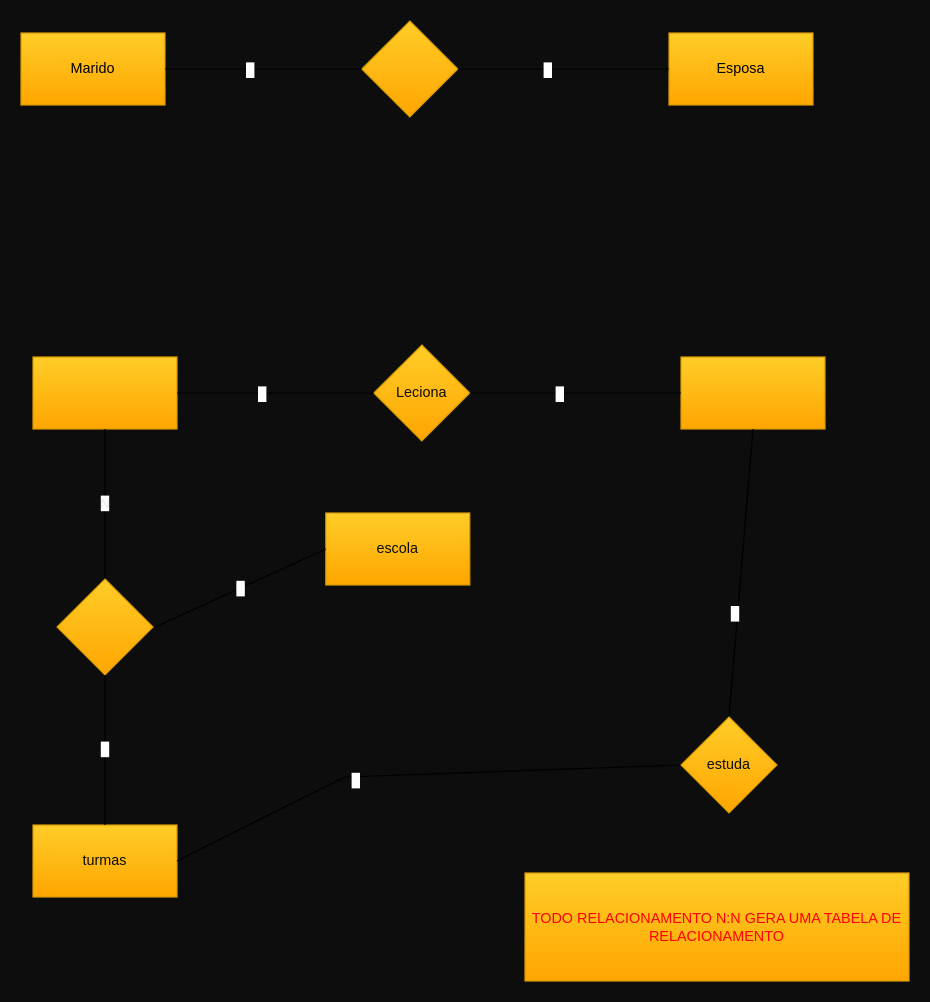
Some shapes in this 930 by 1002 pixel diagram are drawn without their labels. The centre of each missing label's shape, as x and y in pixels:
Casamento: the point at 409,68
Materia: the point at 752,392
professor: the point at 104,392
trabalha: the point at 104,626
